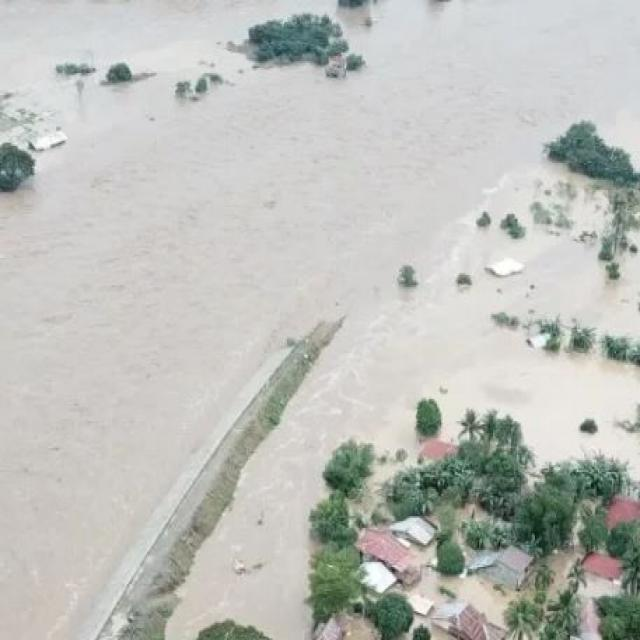flood: (0, 0, 640, 640)
house: (356, 518, 430, 590), (444, 606, 506, 638), (578, 550, 631, 586), (499, 546, 534, 588), (602, 494, 640, 528), (418, 438, 456, 463)
